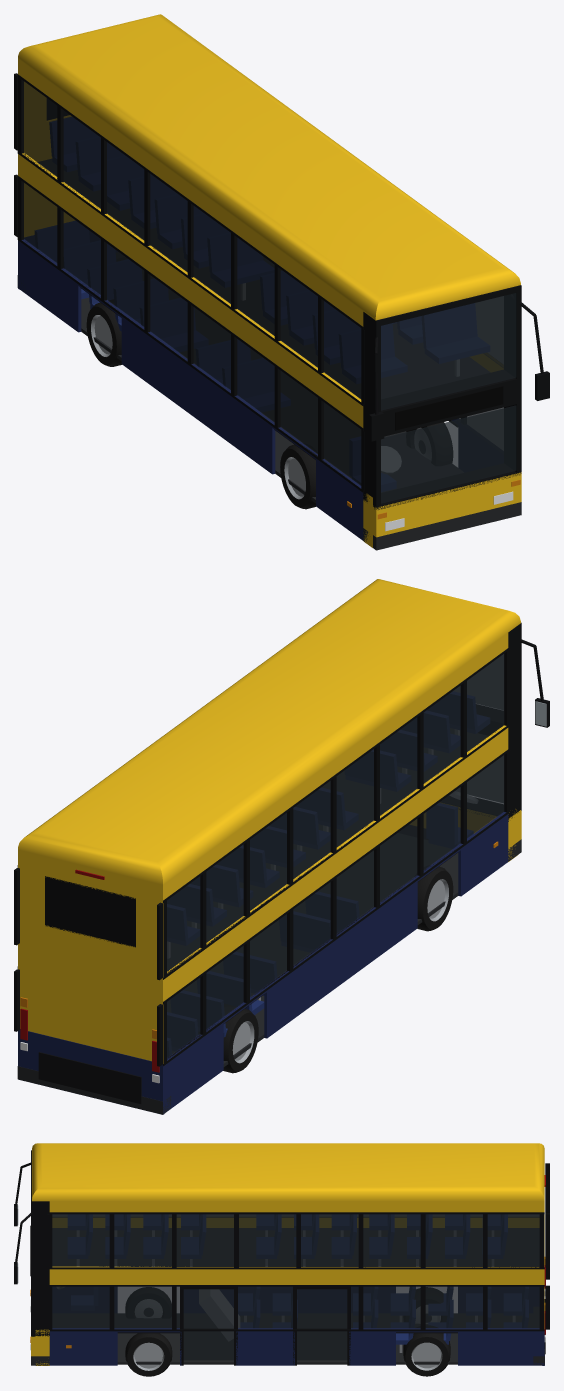
The model's file is bus_dublin_dd.glb.
3 renders of one model, top to bottom at view 1: azimuth 30°, elevation 25°; view 2: azimuth 150°, elevation 25°; view 3: azimuth 270°, elevation 25°, orthographic. The views are drawn at different scales.
Parts seen in each view (by area): view 1: Body, Glass, Interior, DestinationBlind, WheelFR, WheelRR, Mirrors, WheelFL; view 2: Body, Glass, Interior, WheelFR, WheelRR, Mirrors; view 3: Body, Glass, Interior, WheelRL, WheelFL, WheelFR, WheelRR, Mirrors.
Boxes of the visible parts, <box> form: Body: <box>14,14,521,550</box>; Glass: <box>24,81,516,503</box>; Interior: <box>35,117,489,491</box>; DestinationBlind: <box>395,386,503,430</box>; WheelFR: <box>280,443,317,509</box>; WheelRR: <box>86,299,121,366</box>; Mirrors: <box>369,295,549,441</box>; WheelFL: <box>406,422,452,465</box>; Body: <box>14,579,521,1114</box>; Glass: <box>167,654,504,1057</box>; Interior: <box>167,691,489,1057</box>; WheelFR: <box>414,865,453,931</box>; WheelRR: <box>198,1004,258,1073</box>; Mirrors: <box>520,639,549,727</box>; Body: <box>31,1143,549,1365</box>; Glass: <box>52,1214,539,1360</box>; Interior: <box>57,1214,528,1352</box>; WheelRL: <box>403,1325,450,1376</box>; WheelFL: <box>125,1333,172,1376</box>; WheelFR: <box>125,1287,171,1318</box>; WheelRR: <box>403,1287,446,1323</box>; Mirrors: <box>14,1162,32,1284</box>.
Size of the model in its own units: 3.13 by 4.4 by 11.37.
